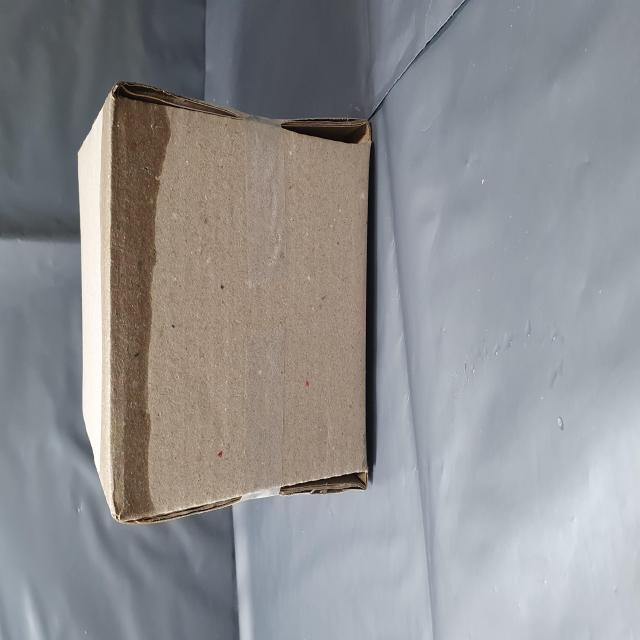wet: (72, 172, 308, 306)
